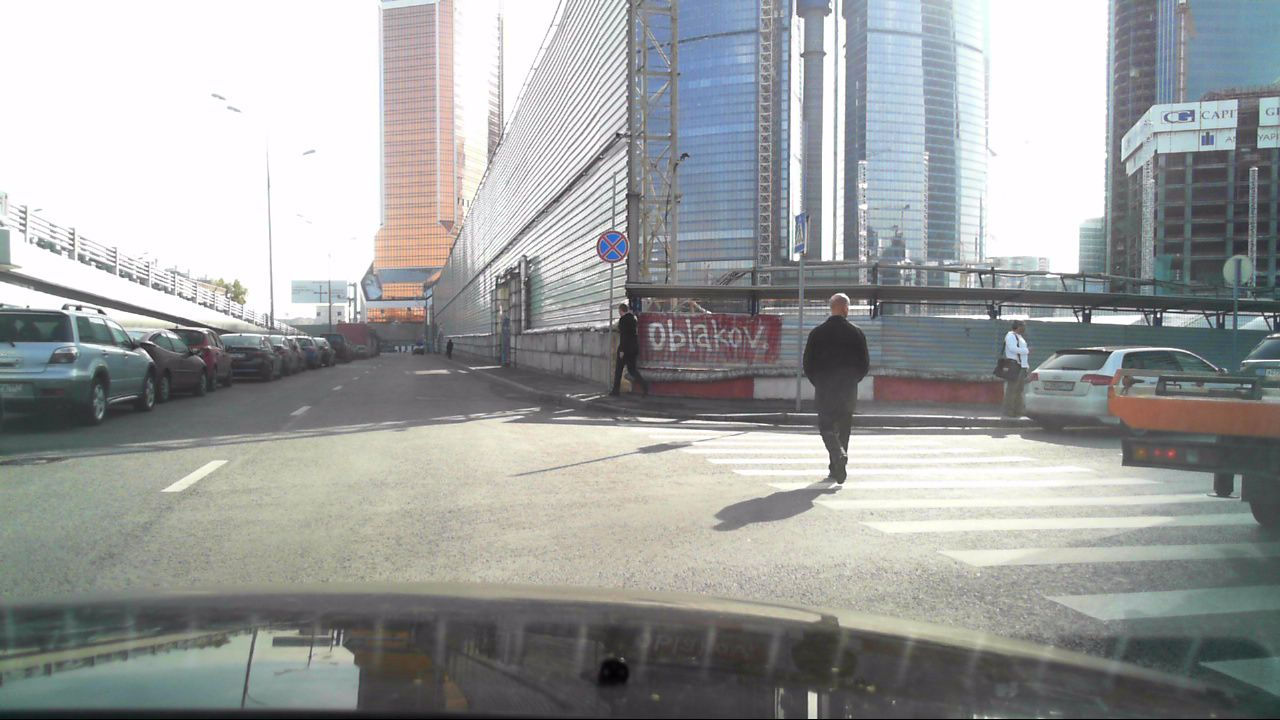No Parking: (598, 231, 628, 261)
